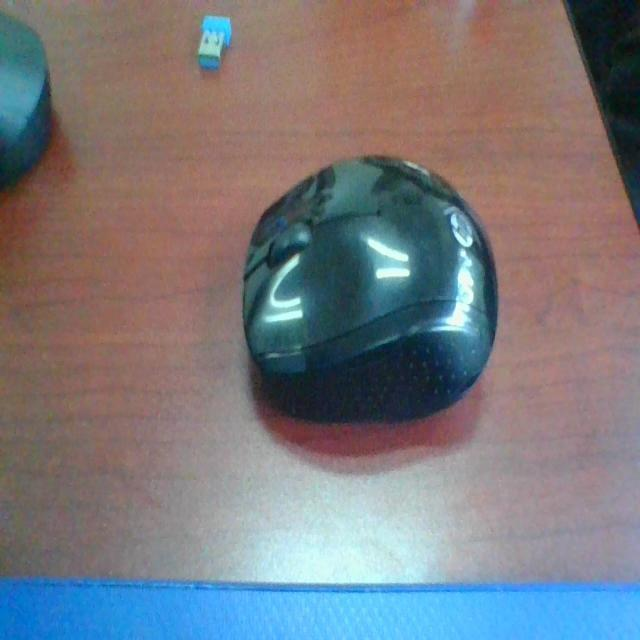Mouse: (235, 134, 513, 444)
